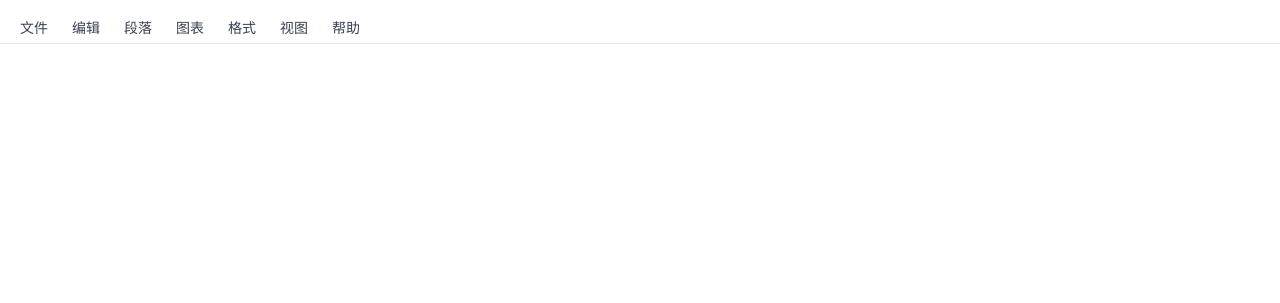
Test case: MenuBar › 再次点击菜单关闭下拉
Click the button "文件" at (34, 28), box [8, 14, 60, 42]
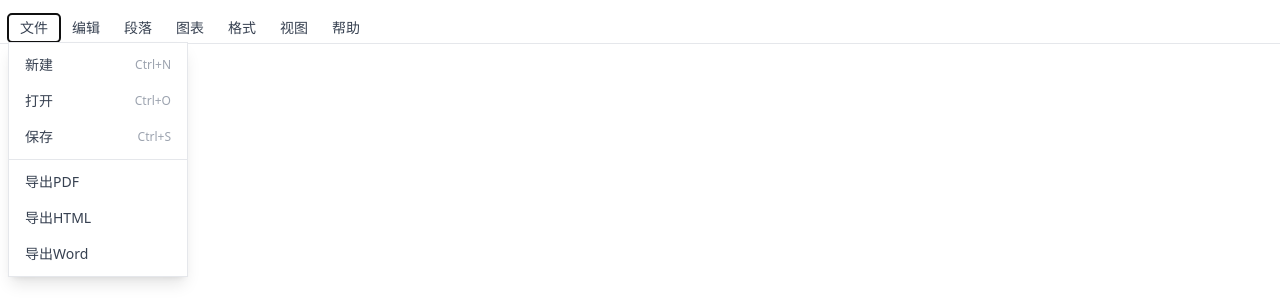
Expected: the text "新建" is shown, [25, 54, 53, 74]
Click the button "文件" at (34, 28), box [8, 14, 60, 42]
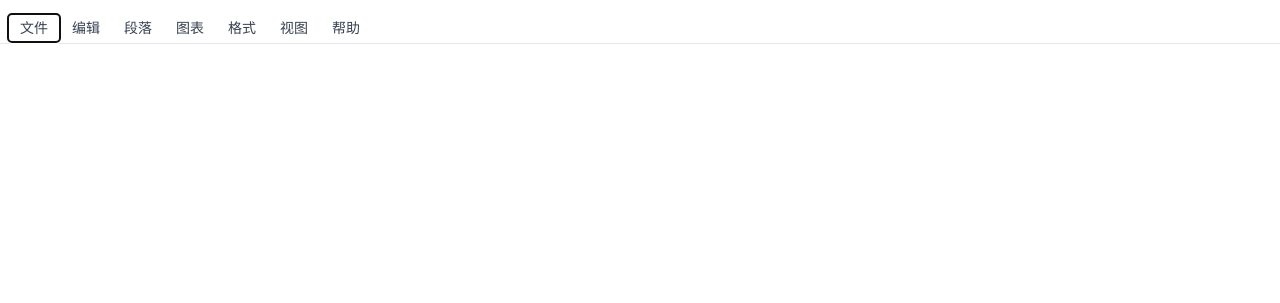
Expected: the button "新建" is gone
